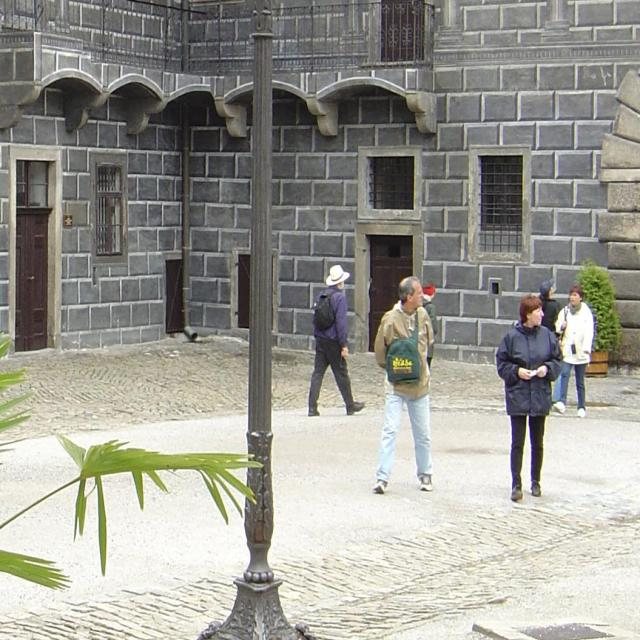non-fight: (374, 267, 444, 500), (495, 297, 559, 504), (304, 264, 364, 418)
